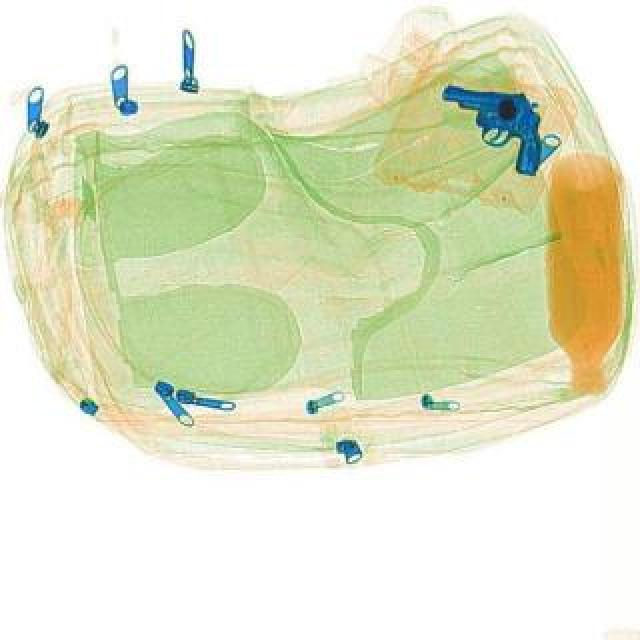gun: (432, 76, 552, 180)
